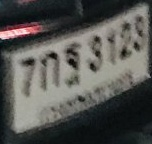num7: (18, 56, 36, 99)
txt01: (39, 50, 62, 93)
txt12: (63, 41, 82, 89)
